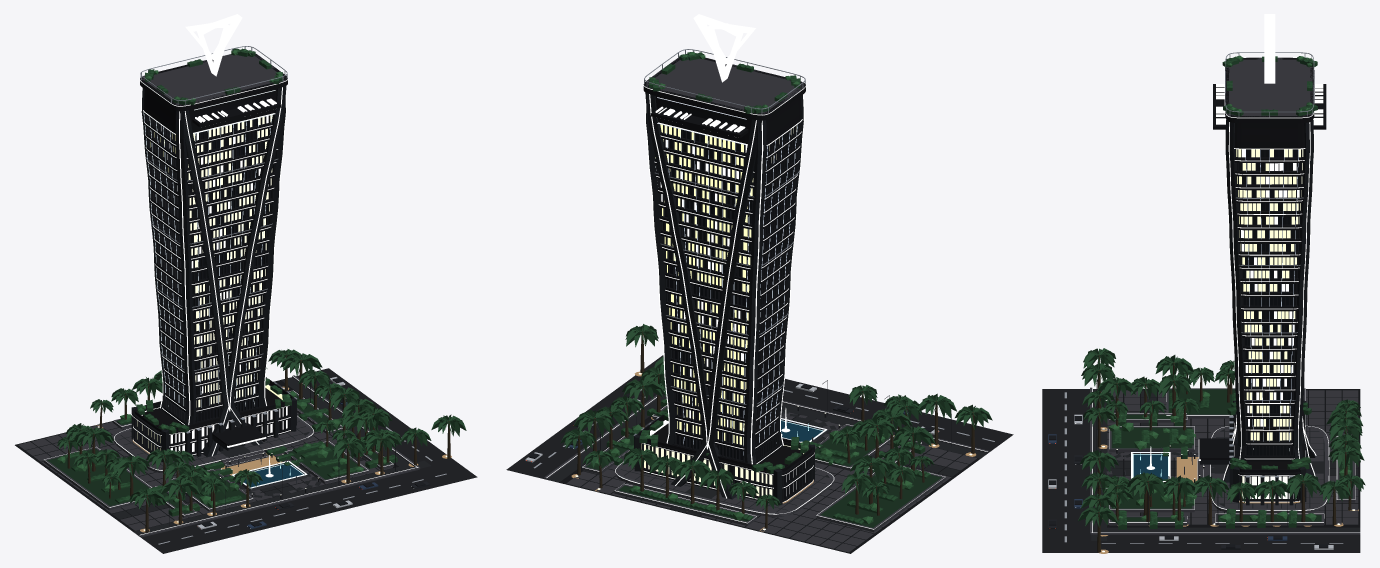
Rendered from kray-tower.glb.
3 renders of one model, left to right at view 1: azimuth 30°, elevation 25°; view 2: azimuth 150°, elevation 25°; view 3: azimuth 270°, elevation 25°, orthographic. The views are drawn at different scales.
Parts seen in each view (by area): view 1: Kray_Tower, Kray_Site, Kray_Roof_Garden, KRAY_CROWN_ICON, Site_Basin, Kray_Sign_Plate; view 2: Kray_Tower, Kray_Site, Kray_Roof_Garden, KRAY_CROWN_ICON, Kray_Sign_Plate, Site_Basin; view 3: Kray_Site, Kray_Tower, Kray_Roof_Garden, KRAY_CROWN_ICON, Site_Basin, Kray_Sign_Plate.
Boxes of the visible parts, x1,y1,x2,y2 form: Kray_Tower: (131,46,297,462); Kray_Site: (15,349,477,553); Kray_Roof_Garden: (136,48,291,434); KRAY_CROWN_ICON: (185,14,242,76); Site_Basin: (238,463,306,491); Kray_Sign_Plate: (192,90,281,133); Kray_Tower: (633,49,814,505); Kray_Site: (506,324,1013,553); Kray_Roof_Garden: (639,52,809,473); KRAY_CROWN_ICON: (693,14,755,82); Kray_Sign_Plate: (651,97,748,145); Site_Basin: (781,419,826,442); Kray_Site: (1042,348,1365,553); Kray_Tower: (1198,52,1316,505); Kray_Roof_Garden: (1222,55,1317,469); KRAY_CROWN_ICON: (1264,14,1275,83); Site_Basin: (1132,453,1167,480); Kray_Sign_Plate: (1213,84,1326,140).
Bounding box in the file's own units: 315 × 379 × 250.
